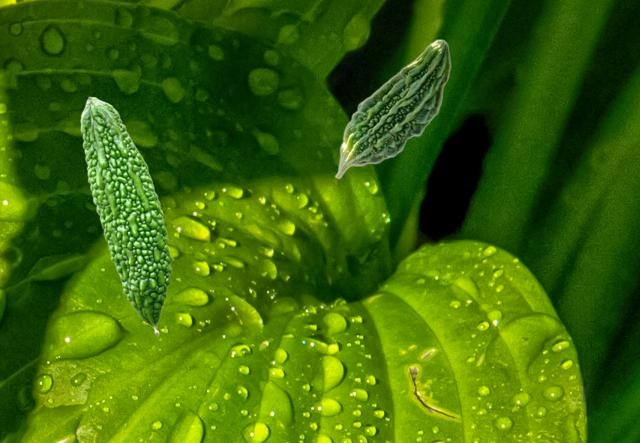ampalaya: (80, 96, 174, 337), (334, 39, 451, 179)
